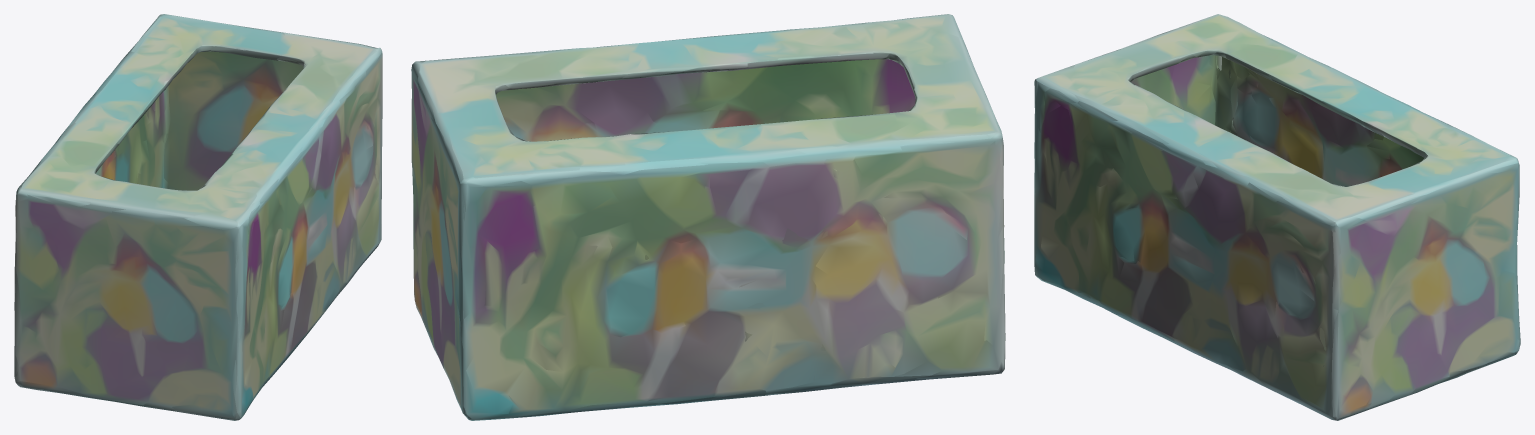
Rendered from 0007_mask_008_tissue_box.glb.
3 renders of one model, left to right at view 1: azimuth 30°, elevation 25°; view 2: azimuth 150°, elevation 25°; view 3: azimuth 270°, elevation 25°, orthographic. The views are drawn at different scales.
Visible parts, largest first — view 1: mask_008_object; view 2: mask_008_object; view 3: mask_008_object.
Part boxes in pixels (x1,y1,x2,y2): mask_008_object: (14, 14, 382, 420); mask_008_object: (411, 14, 1005, 420); mask_008_object: (1034, 14, 1520, 420).
Bounding box in the file's own units: 0.2412 × 0.1087 × 0.2357.
